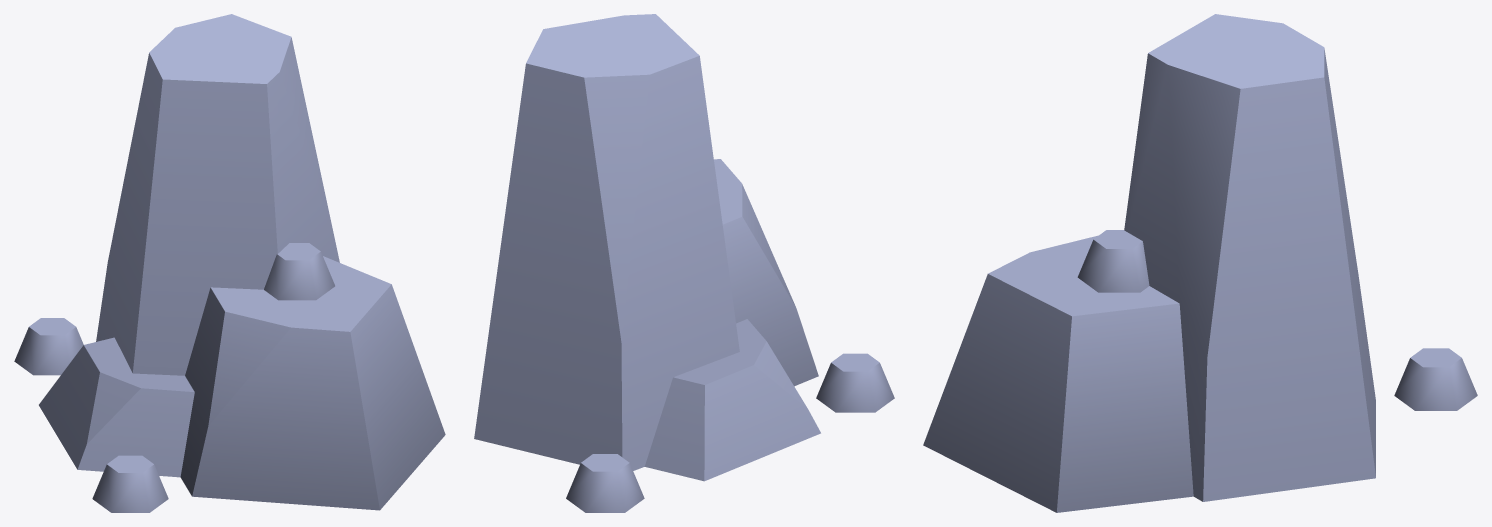
File: rock-small.glb
The picture shows the model from 3 angles, left to right: view 1: azimuth 30°, elevation 25°; view 2: azimuth 150°, elevation 25°; view 3: azimuth 270°, elevation 25°; orthographic projection. The views are drawn at different scales.
Visible parts, largest first — view 1: rock-small; view 2: rock-small; view 3: rock-small.
Boxes of the visible parts, x1=… form: rock-small: x1=14, y1=14, x2=445, y2=512; rock-small: x1=474, y1=14, x2=894, y2=512; rock-small: x1=923, y1=14, x2=1477, y2=512.
Size of the model in its own units: 0.4894 by 0.5 by 0.6501.
Materials: 1 (1 with a texture image).
